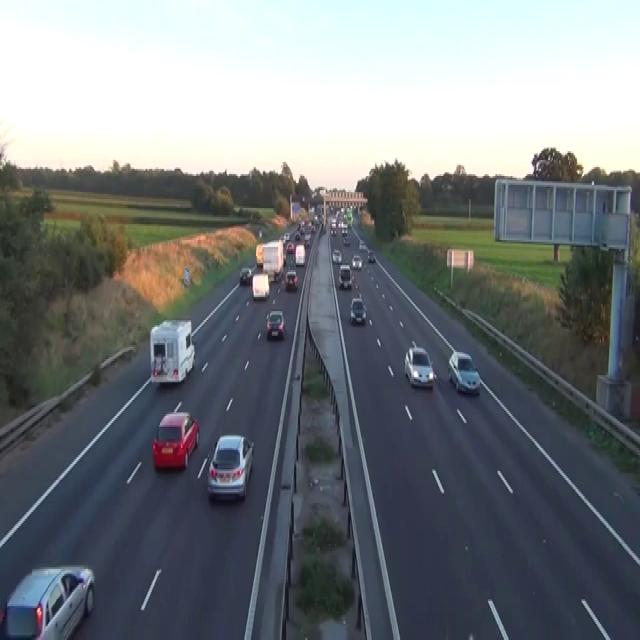Car: (3, 564, 95, 638), (206, 434, 254, 501), (152, 411, 199, 469), (448, 350, 480, 395), (404, 345, 434, 387), (265, 309, 285, 338), (349, 297, 366, 323), (338, 263, 352, 288), (285, 270, 298, 290), (239, 266, 252, 284), (351, 252, 362, 268), (332, 247, 342, 263), (367, 249, 375, 261), (286, 240, 294, 252), (359, 240, 367, 251), (341, 224, 348, 235), (342, 237, 350, 246), (304, 235, 310, 247), (283, 231, 289, 242), (330, 224, 336, 235), (358, 238, 365, 247), (313, 215, 320, 224), (294, 231, 300, 240), (282, 252, 286, 265), (310, 224, 315, 233), (258, 228, 262, 238)
Truck: (149, 318, 195, 384), (262, 240, 283, 281), (251, 272, 270, 300), (294, 243, 305, 265), (255, 242, 263, 266)
